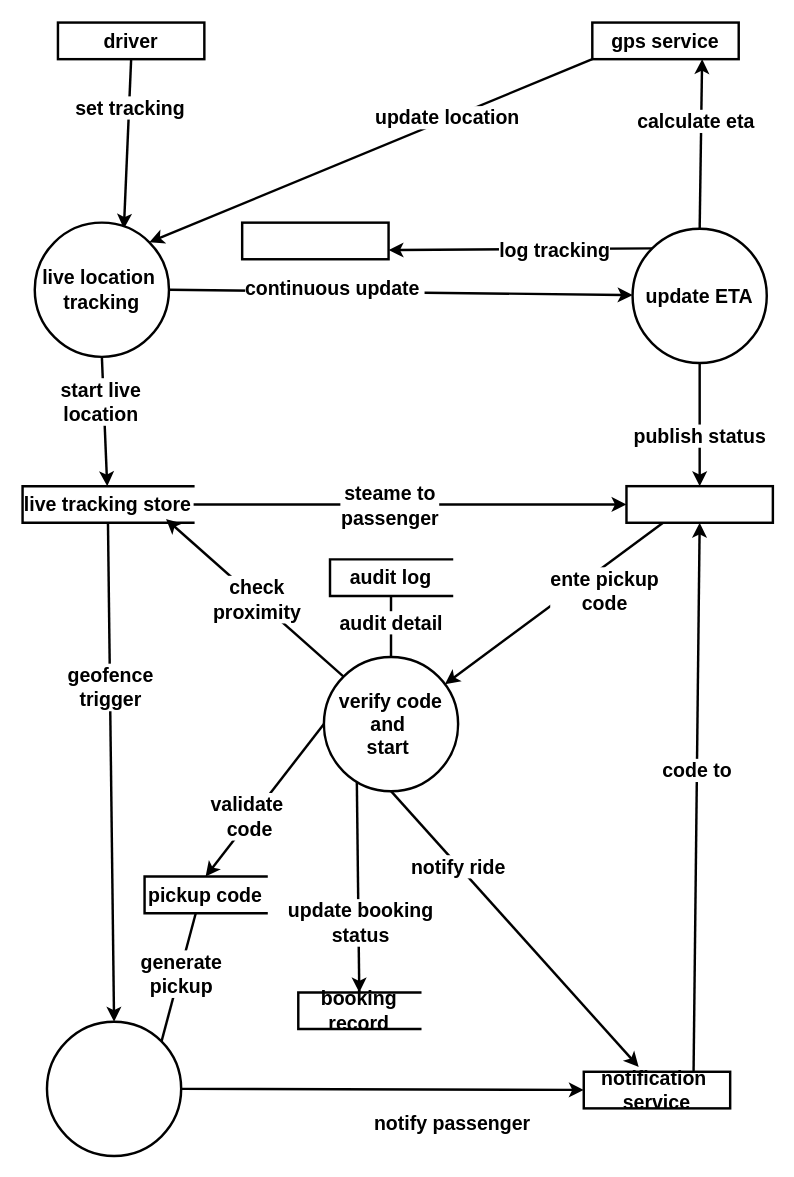
The diagram is 794 pixels wide and 1177 high, and some of its shapes have lost their labels. Here are the shapes that lost their labels. From the top down, the centre of each, then its label:
(314,240): audit services
(699,503): passenger
(113,1088): generate pickup code
